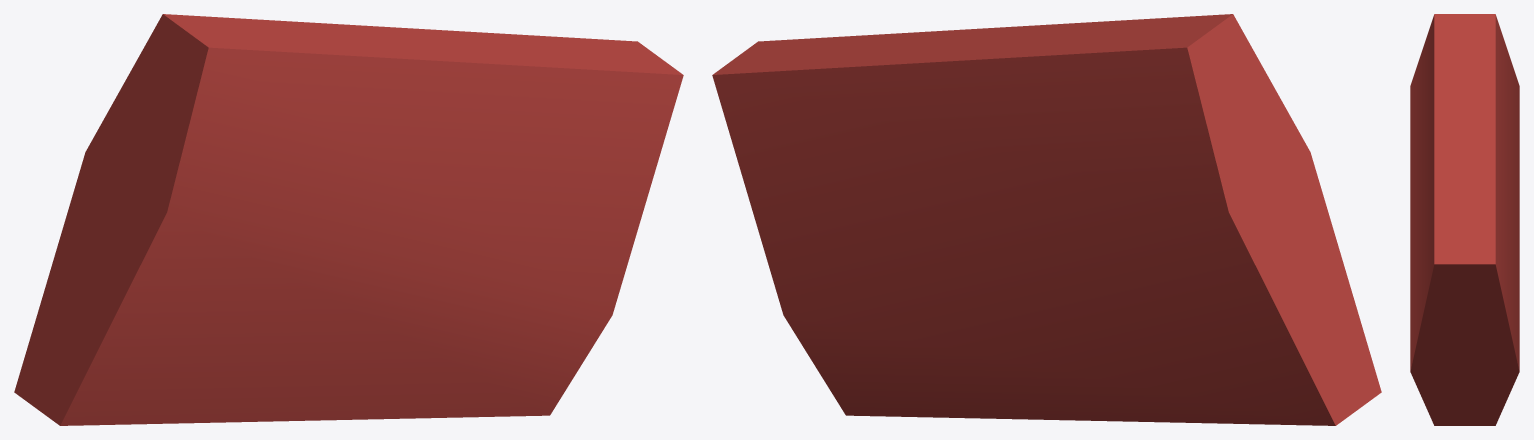
File: side_tank_lod2.glb
3 views of the same model, side by side, from view 1: azimuth 30°, elevation 25°; view 2: azimuth 150°, elevation 25°; view 3: azimuth 270°, elevation 25° (orthographic). The views are drawn at different scales.
Visible parts, largest first — view 1: side_tank_lod2; view 2: side_tank_lod2; view 3: side_tank_lod2.
Boxes of the visible parts, x1=… form: side_tank_lod2: x1=14, y1=14, x2=683, y2=425; side_tank_lod2: x1=712, y1=14, x2=1381, y2=425; side_tank_lod2: x1=1410, y1=14, x2=1519, y2=425.
Bounding box in the file's own units: 0.3081 × 0.2131 × 0.07.
